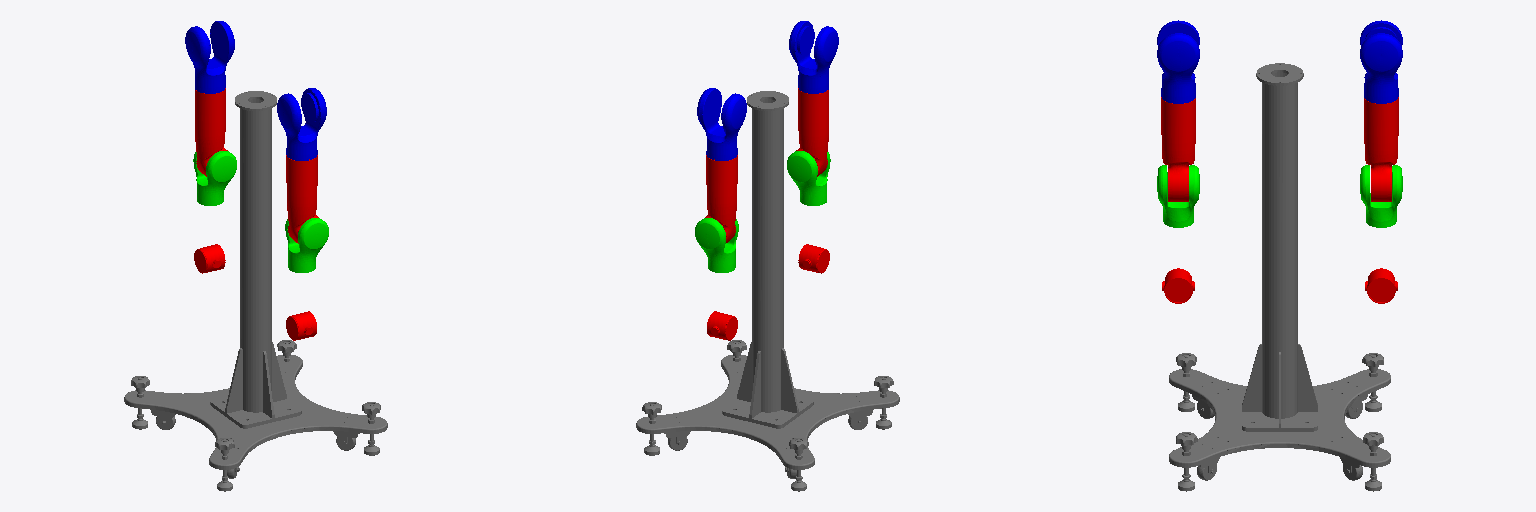
URDF robot description (marvinM6_right):
<?xml version="1.0" encoding="utf-8"?>
<!-- This URDF was automatically created by SolidWorks to URDF Exporter! Originally created by Stephen Brawner (brawner@gmail.com) 
     Commit Version: 1.5.1-0-g916b5db  Build Version: 1.5.7152.31018
     For more information, please see http://wiki.ros.org/sw_urdf_exporter -->
<robot
  name="marvinM6_right">
  <mujoco>
    <compiler meshdir="./meshes/" balanceinertia="false" discardvisual="false" />
  </mujoco>
  <link name="base_link">
    <visual>
      <origin xyz="-0.30392 -0.30448 -2.0" rpy="0 0 0" />
      <geometry>
        <mesh filename="base.stl" scale="0.0008 0.0008 0.0008" />
      </geometry>
      <material name="base_grey">
        <color rgba="0.5 0.5 0.5 1" />
      </material>
    </visual>
    <collision>
      <origin xyz="-0.30392 -0.30448 -2.0" rpy="0 0 0" />
      <geometry>
        <mesh filename="base.stl" scale="0.0008 0.0008 0.0008" />
      </geometry>
    </collision>
  </link>

  <!-- 左臂部分 -->
  <link
    name="Base_L">
    <inertial>
      <origin
        xyz="0.00032267 4.798E-05 0.04066353"
        rpy="0 0 0" />
      <mass
        value="1.1962" />
      <inertia
        ixx="0.00107329"
        ixy="-1.68E-06"
        ixz="-1.05E-05"
        iyy="0.00107003"
        iyz="-3.43E-06"
        izz="0.00127315" />
    </inertial>
    <visual>
      <origin
        xyz="0 0 0"
        rpy="0 0 0" />
      <geometry>
        <mesh
          filename="Base_R.STL" />
      </geometry>
      <material
        name="">
        <color
          rgba="1 0 0 1" />
      </material>
    </visual>
    <collision>
      <origin
        xyz="0 0 0"
        rpy="0 0 0" />
      <geometry>
        <mesh
          filename="Base_R.STL" />
      </geometry>
    </collision>
  </link>
  <joint name="base_link_to_Base_L" type="fixed">
    <origin xyz="0 0.10 0" rpy="-1.57 1.57 0" />
    <parent link="base_link" />
    <child link="Base_L" />
  </joint>
  <link
    name="Link1_L"> 
    <inertial>
      <origin
        xyz="0.00002347 0.00557150 -0.03075998"
        rpy="0 0 0" />
      <mass
        value="1.9705" />
      <inertia
        ixx="0.00492293"
        ixy="0.00000550"
        ixz="0.00000193"
        iyy="0.00526513"
        iyz="0.00033232"
        izz="0.00188107" />
    </inertial>
    <visual>
      <origin
        xyz="0 0 0"
        rpy="0 0 0" />
      <geometry>
        <mesh
          filename="Link1_R.STL" />
      </geometry>
      <material
        name="">
        <color
          rgba="0 1 0 1" />
      </material>
    </visual>
    <collision>
      <origin
        xyz="0 0 0"
        rpy="0 0 0" />
      <geometry>
        <mesh
          filename="Link1_R.STL" />
      </geometry>
    </collision>
  </link>
  <joint
    name="Joint1_L"
    type="fixed">
    <origin
      xyz="0 0 0.1745"
      rpy="0 0 0" />
    <parent
      link="Base_L" />
    <child
      link="Link1_L" />
    <axis
      xyz="0 0 1" />
    <limit
      lower="-3.1067"
      upper="0"
      effort="108"
      velocity="3.1416" />
  </joint>
  <link
    name="Link2_L">
    <inertial>
      <origin
        xyz="0.00013483 0.06170460 0.00950639"
        rpy="0 0 0" />
      <mass
        value="2.24398" />
      <inertia
        ixx="0.01194933"
        ixy="0.00000336"
        ixz="0.00000091"
        iyy="0.00361581"
        iyz="-0.00132804"
        izz="0.01098356" />
    </inertial>
    <visual>
      <origin
        xyz="0 0 0"
        rpy="0 0 0" />
      <geometry>
        <mesh
          filename="Link2_R.STL" />
      </geometry>
      <material
        name="">
        <color
          rgba="0 0 1 1" />
      </material>
    </visual>
    <collision>
      <origin
        xyz="0 0 0"
        rpy="0 0 0" />
      <geometry>
        <mesh
          filename="Link2_R.STL" />
      </geometry>
    </collision>
  </link>
  <joint
    name="Joint2_L"
    type="fixed">
    <origin
      xyz="0 0 0"
      rpy="1.570796327 1.570796327 0" />
    <parent
      link="Link1_L" />
    <child
      link="Link2_L" />
    <axis
      xyz="0 0 1" />
    <limit
      lower="0.0"
      upper="3.6652"
      effort="108"
      velocity="3.1416" />
  </joint>
  <link
    name="Link3_L">
    <inertial>
      <origin
        xyz="0.00588308 0.00079656 -0.11435153"
        rpy="0 0 0" />
      <mass
        value="2.24598712" />
      <inertia
        ixx="0.02297472"
        ixy="0.00002807"
        ixz="0.00155392"
        iyy="0.02333711"
        iyz="0.00021547"
        izz="0.00260810" />
    </inertial>
    <visual>
      <origin
        xyz="0 0 0"
        rpy="0 0 0" />
      <geometry>
        <mesh
          filename="Link3_R.STL" />
      </geometry>
      <material
        name="">
        <color
          rgba="1 0 0 1" />
      </material>
    </visual>
    <collision>
      <origin
        xyz="0 0 0"
        rpy="0 0 0" />
      <geometry>
        <mesh
          filename="Link3_R.STL" />
      </geometry>
    </collision>
  </link>
  <joint
    name="Joint3_L"
    type="fixed">
    <origin
      xyz="0 0.4 0"
      rpy="-1.570796327 -1.570796327 0" />
    <parent
      link="Link2_L" />
    <child
      link="Link3_L" />
    <axis
      xyz="0 0 1" />
    <limit
      lower="-1.5359"
      upper="0.58"
      effort="66"
      velocity="3.1416" />
  </joint>
  <link
    name="Link4_L">
    <inertial>
      <origin
        xyz="0.00850411 -0.04718223 0.00941509"
        rpy="0 0 0" />
      <mass
        value="1.6085" />
      <inertia
        ixx="0.00580480"
        ixy="-0.00066669"
        ixz="-0.00012722"
        iyy="0.00223807"
        iyz="0.00070523"
        izz="0.00533060" />
    </inertial>
    <visual>
      <origin
        xyz="0 0 0"
        rpy="0 0 0" />
      <geometry>
        <mesh
          filename="Link4_R.STL" />
      </geometry>
      <material
        name="">
        <color
          rgba="0 1 0 1" />
      </material>
    </visual>
    <collision>
      <origin
        xyz="0 0 0"
        rpy="0 0 0" />
      <geometry>
        <mesh
          filename="Link4_R.STL" />
      </geometry>
    </collision>
  </link>
  <joint
    name="Joint4_L"
    type="fixed">
    <origin
      xyz="0.018 0 0"
      rpy="-1.570796327 0 3.1416" />
    <parent
      link="Link3_L" />
    <child
      link="Link4_L" />
    <axis
      xyz="0 0 1" />
    <limit
      lower="-2.5307"
      upper="0.0"
      effort="66"
      velocity="3.1416" />
  </joint>
  <link
    name="Link5_L">
    <inertial>
      <origin
        xyz="-0.00051127 -0.00101064 -0.11271739"
        rpy="0 0 0" />
      <mass
        value="2.0883" />
      <inertia
        ixx="0.00626603"
        ixy="0.00004009"
        ixz="-0.00005338"
        iyy="0.00564387"
        iyz="0.00006193"
        izz="0.00243632" />
    </inertial>
    <visual>
      <origin
        xyz="0 0 0"
        rpy="0 0 0" />
      <geometry>
        <mesh
          filename="Link5_R.STL" />
      </geometry>
      <material
        name="">
        <color
          rgba="0 0 1 1" />
      </material>
    </visual>
    <collision>
      <origin
        xyz="0 0 0"
        rpy="0 0 0" />
      <geometry>
        <mesh
          filename="Link5_R.STL" />
      </geometry>
    </collision>
  </link>
  <joint
    name="Joint5_L"
    type="fixed">
    <origin
      xyz="0.018 -0.314 0"
      rpy="-1.570796327 0 3.1416" />
    <parent
      link="Link4_L" />
    <child
      link="Link5_L" />
    <axis
      xyz="0 0 1" />
    <limit
      lower="-3.1067"
      upper="3.1067"
      effort="18"
      velocity="3.1416" />
  </joint>
  <link
    name="Link6_L">
    <inertial>
      <origin
        xyz="-0.00032659 0.00531336 0.00030182"
        rpy="0 0 0" />
      <mass
        value="0.72496" />
      <inertia
        ixx="0.00046040"
        ixy="-0.00000189"
        ixz="0.00000083"
        iyy="0.00051716"
        iyz="0.00000346"
        izz="0.00042521" />
    </inertial>
    <visual>
      <origin
        xyz="0 0 0"
        rpy="0 0 0" />
      <geometry>
        <mesh
          filename="Link6_R.STL" />
      </geometry>
      <material
        name="">
        <color
          rgba="1 0 0 1" />
      </material>
    </visual>
    <collision>
      <origin
        xyz="0 0 0"
        rpy="0 0 0" />
      <geometry>
        <mesh
          filename="Link6_R.STL" />
      </geometry>
    </collision>
  </link>
  <joint
    name="Joint6_L"
    type="fixed">
    <origin
      xyz="0 0 0"
      rpy="1.570796327 -1.570796327 0" />
    <parent
      link="Link5_L" />
    <child
      link="Link6_L" />
    <axis
      xyz="0 0 1" />
    <limit
      lower="-1.0472"
      upper="1.0472"
      effort="18"
      velocity="3.1416" />
  </joint>
  <link
    name="Link7_L">
    <inertial>
      <origin
        xyz="-0.00009108 -0.03153255 0.00889371"
        rpy="0 0 0" />
      <mass
        value="0.68606" />
      <inertia
        ixx="0.00173687"
        ixy="-0.00000345"
        ixz="-0.00000116"
        iyy="0.00089035"
        iyz="0.00030680"
        izz="0.00139406" />
    </inertial>
    <visual>
      <origin
        xyz="0 0 0"
        rpy="0 0 0" />
      <geometry>
        <mesh
          filename="Link7_R.STL" />
      </geometry>
      <material
        name="">
        <color
          rgba="0 1 0 1" />
      </material>
    </visual>
    <collision>
      <origin
        xyz="0 0 0"
        rpy="0 0 0" />
      <geometry>
        <mesh
          filename="Link7_R.STL" />
      </geometry>
    </collision>
  </link>
  <joint
    name="Joint7_L"
    type="fixed">
    <origin
      xyz="0 0 0"
      rpy="1.570796327 -1.570796327 0" />
    <parent
      link="Link6_L" />
    <child
      link="Link7_L" />
    <axis
      xyz="0 0 1" />
    <limit
      lower="-1.570796327"
      upper="1.570796327"
      effort="18"
      velocity="3.1416" />
  </joint>
  <link
    name="TCP_Link_L">
    <inertial>
      <origin
        xyz="0 0 0"
        rpy="0 0 0" />
      <mass
        value="0.01" />
      <inertia
        ixx="0.00001"
        ixy="0"
        ixz="0"
        iyy="0.00001"
        iyz="0"
        izz="0.00001" />
    </inertial>
  </link>
  <joint
    name="JointTCP_L"
    type="fixed">
    <origin
      xyz="0 -0.095 0"
      rpy="1.570796327 -1.570796327 0" />
    <parent
      link="Link7_L" />
    <child
      link="TCP_Link_L" />
    <axis
      xyz="0 0 0" />
  </joint>

  <!-- 右臂部分 -->
  <link
    name="Base_R">
    <inertial>
      <origin
        xyz="0.00032267 4.798E-05 0.04066353"
        rpy="0 0 0" />
      <mass
        value="1.1962" />
      <inertia
        ixx="0.00107329"
        ixy="-1.68E-06"
        ixz="-1.05E-05"
        iyy="0.00107003"
        iyz="-3.43E-06"
        izz="0.00127315" />
    </inertial>
    <visual>
      <origin
        xyz="0 0 0"
        rpy="0 0 0" />
      <geometry>
        <mesh
          filename="Base_R.STL" />
      </geometry>
      <material
        name="">
        <color
          rgba="1 0 0 1" />
      </material>
    </visual>
    <collision>
      <origin
        xyz="0 0 0"
        rpy="0 0 0" />
      <geometry>
        <mesh
          filename="Base_R.STL" />
      </geometry>
    </collision>
  </link>
  <joint name="base_link_to_Base_R" type="fixed">
    <origin xyz="0 -0.10 0.0" rpy="1.57 1.57 0" />
    <parent link="base_link" />
    <child link="Base_R" />
  </joint>
  <link
    name="Link1_R">
    <inertial>
      <origin
        xyz="0.00002347 0.00557150 -0.03075998"
        rpy="0 0 0" />
      <mass
        value="1.9705" />
      <inertia
        ixx="0.00492293"
        ixy="0.00000550"
        ixz="0.00000193"
        iyy="0.00526513"
        iyz="0.00033232"
        izz="0.00188107" />
    </inertial>
    <visual>
      <origin
        xyz="0 0 0"
        rpy="0 0 0" />
      <geometry>
        <mesh
          filename="Link1_R.STL" />
      </geometry>
      <material
        name="">
        <color
          rgba="0 1 0 1" />
      </material>
    </visual>
    <collision>
      <origin
        xyz="0 0 0"
        rpy="0 0 0" />
      <geometry>
        <mesh
          filename="Link1_R.STL" />
      </geometry>
    </collision>
  </link>
  <joint
    name="Joint1_R"
    type="revolute">
    <origin
      xyz="0 0 0.1745"
      rpy="0 0 0" />
    <parent
      link="Base_R" />
    <child
      link="Link1_R" />
    <axis
      xyz="0 0 1" />
    <limit
      lower="0.0"
      upper="3.1067"
      effort="108"
      velocity="2.1416" />
  </joint>
  <link
    name="Link2_R">
    <inertial>
      <origin
        xyz="0.00013483 0.06170460 0.00950639"
        rpy="0 0 0" />
      <mass
        value="2.24398" />
      <inertia
        ixx="0.01194933"
        ixy="0.00000336"
        ixz="0.00000091"
        iyy="0.00361581"
        iyz="-0.00132804"
        izz="0.01098356" />
    </inertial>
    <visual>
      <origin
        xyz="0 0 0"
        rpy="0 0 0" />
      <geometry>
        <mesh
          filename="Link2_R.STL" />
      </geometry>
      <material
        name="">
        <color
          rgba="0 0 1 1" />
      </material>
    </visual>
    <collision>
      <origin
        xyz="0 0 0"
        rpy="0 0 0" />
      <geometry>
        <mesh
          filename="Link2_R.STL" />
      </geometry>
    </collision>
  </link>
  <joint
    name="Joint2_R"
    type="revolute">
    <origin
      xyz="0 0 0"
      rpy="1.570796327 1.570796327 0" />
    <parent
      link="Link1_R" />
    <child
      link="Link2_R" />
    <axis
      xyz="0 0 1" />
    <limit
      lower="0.0"
      upper="1.570796327"
      effort="108"
      velocity="2.1416" />
  </joint>
  <link
    name="Link3_R">
    <inertial>
      <origin
        xyz="0.00588308 0.00079656 -0.11435153"
        rpy="0 0 0" />
      <mass
        value="2.24598712" />
      <inertia
        ixx="0.02297472"
        ixy="0.00002807"
        ixz="0.00155392"
        iyy="0.02333711"
        iyz="0.00021547"
        izz="0.00260810" />
    </inertial>
    <visual>
      <origin
        xyz="0 0 0"
        rpy="0 0 0" />
      <geometry>
        <mesh
          filename="Link3_R.STL" />
      </geometry>
      <material
        name="">
        <color
          rgba="1 0 0 1" />
      </material>
    </visual>
    <collision>
      <origin
        xyz="0 0 0"
        rpy="0 0 0" />
      <geometry>
        <mesh
          filename="Link3_R.STL" />
      </geometry>
    </collision>
  </link>
  <joint
    name="Joint3_R"
    type="revolute">
    <origin
      xyz="0 0.4 0"
      rpy="-1.570796327 1.570796327 0" />
    <parent
      link="Link2_R" />
    <child
      link="Link3_R" />
    <axis
      xyz="0 0 1" />
    <limit
      lower="-0.58"
      upper="1.5359"
      effort="66"
      velocity="3.1416" />
  </joint>
  <link
    name="Link4_R">
    <inertial>
      <origin
        xyz="0.00850411 -0.04718223 0.00941509"
        rpy="0 0 0" />
      <mass
        value="1.6085" />
      <inertia
        ixx="0.00580480"
        ixy="-0.00066669"
        ixz="-0.00012722"
        iyy="0.00223807"
        iyz="0.00070523"
        izz="0.00533060" />
    </inertial>
    <visual>
      <origin
        xyz="0 0 0"
        rpy="0 0 0" />
      <geometry>
        <mesh
          filename="Link4_R.STL" />
      </geometry>
      <material
        name="">
        <color
          rgba="0 1 0 1" />
      </material>
    </visual>
    <collision>
      <origin
        xyz="0 0 0"
        rpy="0 0 0" />
      <geometry>
        <mesh
          filename="Link4_R.STL" />
      </geometry>
    </collision>
  </link>
  <joint
    name="Joint4_R"
    type="revolute">
    <origin
      xyz="0.018 0 0"
      rpy="-1.570796327 0 3.1416" />
    <parent
      link="Link3_R" />
    <child
      link="Link4_R" />
    <axis
      xyz="0 0 -1" />
    <limit
      lower="0.0"
      upper="2.5307"
      effort="66"
      velocity="2.1416" />
  </joint>
  <link
    name="Link5_R">
    <inertial>
      <origin
        xyz="-0.00051127 -0.00101064 -0.11271739"
        rpy="0 0 0" />
      <mass
        value="2.0883" />
      <inertia
        ixx="0.00626603"
        ixy="0.00004009"
        ixz="-0.00005338"
        iyy="0.00564387"
        iyz="0.00006193"
        izz="0.00243632" />
    </inertial>
    <visual>
      <origin
        xyz="0 0 0"
        rpy="0 0 0" />
      <geometry>
        <mesh
          filename="Link5_R.STL" />
      </geometry>
      <material
        name="">
        <color
          rgba="0 0 1 1" />
      </material>
    </visual>
    <collision>
      <origin
        xyz="0 0 0"
        rpy="0 0 0" />
      <geometry>
        <mesh
          filename="Link5_R.STL" />
      </geometry>
    </collision>
  </link>
  <joint
    name="Joint5_R"
    type="revolute">
    <origin
      xyz="0.018 -0.314 0"
      rpy="-1.570796327 0 3.1416" />
    <parent
      link="Link4_R" />
    <child
      link="Link5_R" />
    <axis
      xyz="0 0 1" />
    <limit
      lower="-2.1067"
      upper="2.1067"
      effort="18"
      velocity="3.1416" />
  </joint>
  <link
    name="Link6_R">
    <inertial>
      <origin
        xyz="-0.00032659 0.00531336 0.00030182"
        rpy="0 0 0" />
      <mass
        value="0.72496" />
      <inertia
        ixx="0.00046040"
        ixy="-0.00000189"
        ixz="0.00000083"
        iyy="0.00051716"
        iyz="0.00000346"
        izz="0.00042521" />
    </inertial>
    <visual>
      <origin
        xyz="0 0 0"
        rpy="0 0 0" />
      <geometry>
        <mesh
          filename="Link6_R.STL" />
      </geometry>
      <material
        name="">
        <color
          rgba="1 0 0 1" />
      </material>
    </visual>
    <collision>
      <origin
        xyz="0 0 0"
        rpy="0 0 0" />
      <geometry>
        <mesh
          filename="Link6_R.STL" />
      </geometry>
    </collision>
  </link>
  <joint
    name="Joint6_R"
    type="revolute">
    <origin
      xyz="0 0 0"
      rpy="1.570796327 -1.570796327 0" />
    <parent
      link="Link5_R" />
    <child
      link="Link6_R" />
    <axis
      xyz="0 0 -1" />
    <limit
      lower="-0.7472"
      upper="0.7472"
      effort="18"
      velocity="3.1416" />
  </joint>
  <link
    name="Link7_R">
    <inertial>
      <origin
        xyz="-0.00009108 -0.03153255 0.00889371"
        rpy="0 0 0" />
      <mass
        value="0.68606" />
      <inertia
        ixx="0.00173687"
        ixy="-0.00000345"
        ixz="-0.00000116"
        iyy="0.00089035"
        iyz="0.00030680"
        izz="0.00139406" />
    </inertial>
    <visual>
      <origin
        xyz="0 0 0"
        rpy="0 0 0" />
      <geometry>
        <mesh
          filename="Link7_R.STL" />
      </geometry>
      <material
        name="">
        <color
          rgba="0 1 0 1" />
      </material>
    </visual>
    <collision>
      <origin
        xyz="0 0 0"
        rpy="0 0 0" />
      <geometry>
        <mesh
          filename="Link7_R.STL" />
      </geometry>
    </collision>
  </link>
  <joint
    name="Joint7_R"
    type="revolute">
    <origin
      xyz="0 0 0"
      rpy="1.570796327 -1.570796327 0" />
    <parent
      link="Link6_R" />
    <child
      link="Link7_R" />
    <axis
      xyz="0 0 -1" />
    <limit
      lower="-0.770796327"
      upper="0.770796327"
      effort="18"
      velocity="3.1416" />
  </joint>
  <link
    name="TCP_Link_R">
    <inertial>
      <origin
        xyz="0 0 0"
        rpy="0 0 0" />
      <mass
        value="0.01" />
      <inertia
        ixx="0.00001"
        ixy="0"
        ixz="0"
        iyy="0.00001"
        iyz="0"
        izz="0.00001" />
    </inertial>
  </link>
  <joint
    name="JointTCP_R"
    type="fixed">
    <origin
      xyz="0 -0.095 0"
      rpy="1.570796327 -1.570796327 0" />
    <parent
      link="Link7_R" />
    <child
      link="TCP_Link_R" />
    <axis
      xyz="0 0 0" />
  </joint>
</robot>

--- What the picture shows (computed from the rendered views, not written in the file) ---
Views: 3 orthographic renders of the robot side by side, from view 1: azimuth 30°, elevation 25°; view 2: azimuth 150°, elevation 25°; view 3: azimuth 270°, elevation 25°.
Robot: marvinM6_right — 19 links, 18 joints (7 revolute, 11 fixed); root link base_link; default pose: every joint at zero.
Visible links, largest first — view 1: base_link, Link2_L, Link2_R, Link3_R, Link3_L, Link4_R, Link4_L, Link6_L, Link6_R; view 2: base_link, Link2_L, Link2_R, Link3_L, Link3_R, Link4_L, Link4_R, Link6_R, Link6_L; view 3: base_link, Link2_L, Link2_R, Link3_L, Link3_R, Link4_R, Link4_L, Link6_L, Link6_R.
Boxes of the visible links, x1=… form: base_link: x1=124, y1=91, x2=387, y2=491; Link2_L: x1=185, y1=21, x2=234, y2=93; Link2_R: x1=277, y1=88, x2=326, y2=160; Link3_R: x1=286, y1=155, x2=318, y2=243; Link3_L: x1=195, y1=88, x2=227, y2=176; Link4_R: x1=285, y1=218, x2=328, y2=272; Link4_L: x1=193, y1=151, x2=236, y2=205; Link6_L: x1=194, y1=244, x2=225, y2=273; Link6_R: x1=286, y1=311, x2=316, y2=340; base_link: x1=636, y1=91, x2=899, y2=491; Link2_L: x1=697, y1=88, x2=746, y2=160; Link2_R: x1=789, y1=21, x2=838, y2=93; Link3_L: x1=705, y1=155, x2=737, y2=242; Link3_R: x1=796, y1=88, x2=828, y2=176; Link4_L: x1=695, y1=218, x2=738, y2=272; Link4_R: x1=787, y1=151, x2=830, y2=205; Link6_R: x1=798, y1=244, x2=829, y2=273; Link6_L: x1=707, y1=311, x2=737, y2=340; base_link: x1=1169, y1=63, x2=1390, y2=491; Link2_L: x1=1360, y1=20, x2=1402, y2=103; Link2_R: x1=1157, y1=20, x2=1199, y2=103; Link3_L: x1=1364, y1=97, x2=1398, y2=201; Link3_R: x1=1161, y1=97, x2=1195, y2=201; Link4_R: x1=1157, y1=165, x2=1199, y2=227; Link4_L: x1=1360, y1=165, x2=1402, y2=227; Link6_L: x1=1365, y1=268, x2=1397, y2=303; Link6_R: x1=1162, y1=268, x2=1194, y2=303.
Size in the robot's own frame: 0.6019 by 0.665 by 1.26 metres.
9 mesh visuals loaded from 9 distinct referenced files (5 binary STL); not drawn: 8 (reference not matched to a file when rendering).
